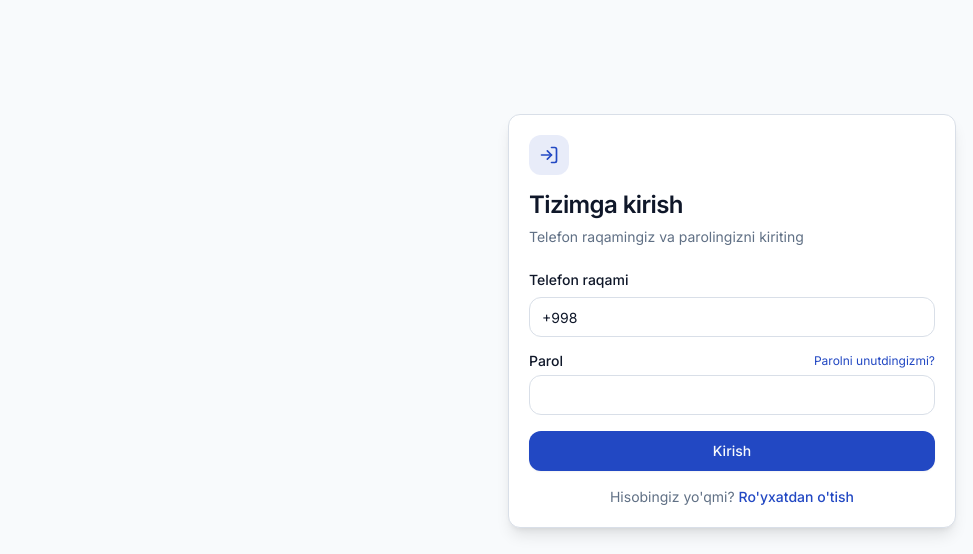
Test: Everyday local navigation and forms › returns to the exact protected chat link after normal login
Replace the text in the field labelled "Telefon raqami" with "+998901234567": (732, 317) [529,297,935,337]
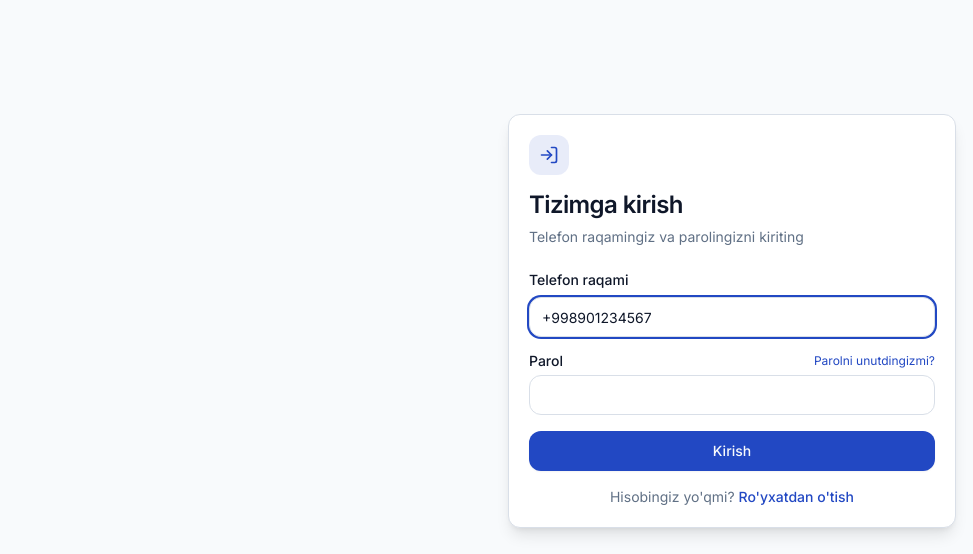
In the password field labelled "Parol": (732, 395) [529,375,935,415], type "SyntheticLogin2026!"
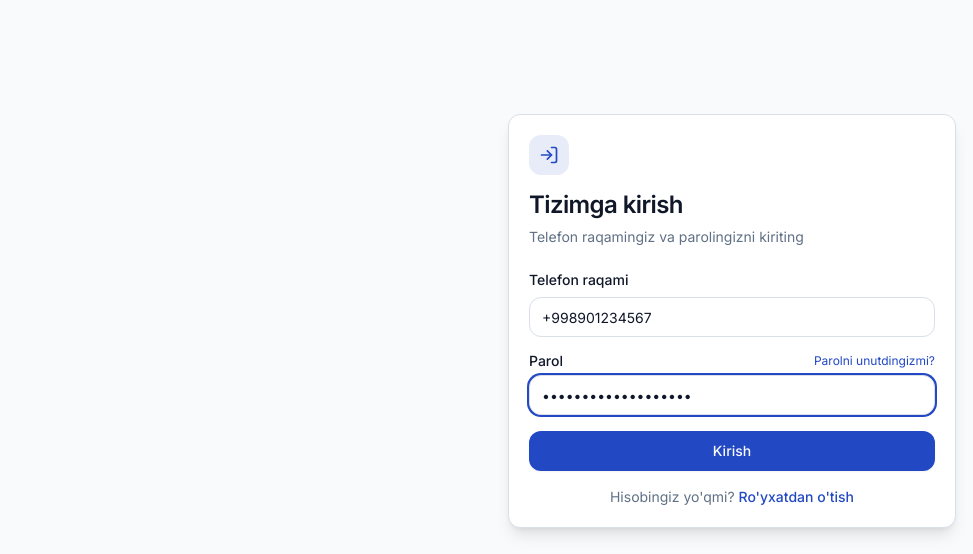
Click the button "Kirish": (732, 451) [529,431,935,471]
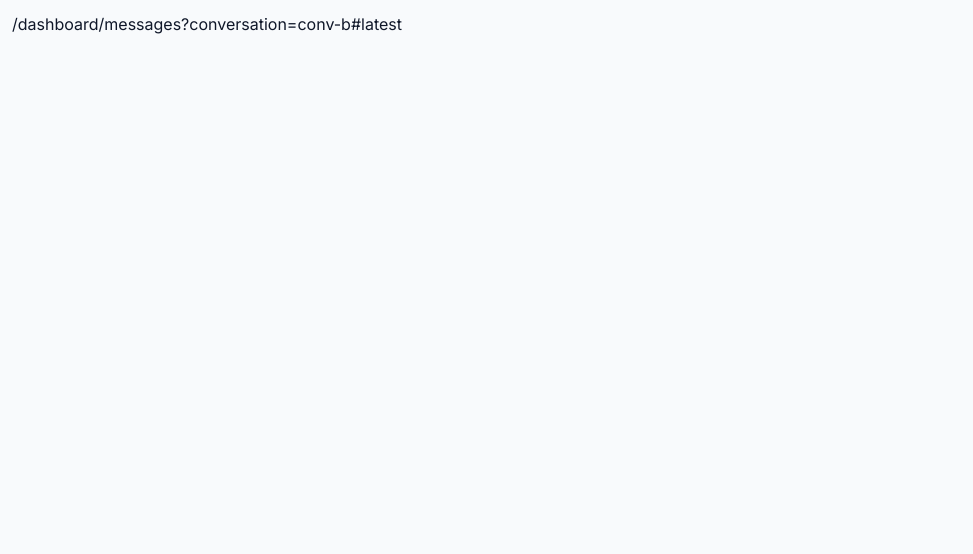
Check: the text "/dashboard/messages?conversation=conv-b#latest" is shown, box [12,14,402,34]
